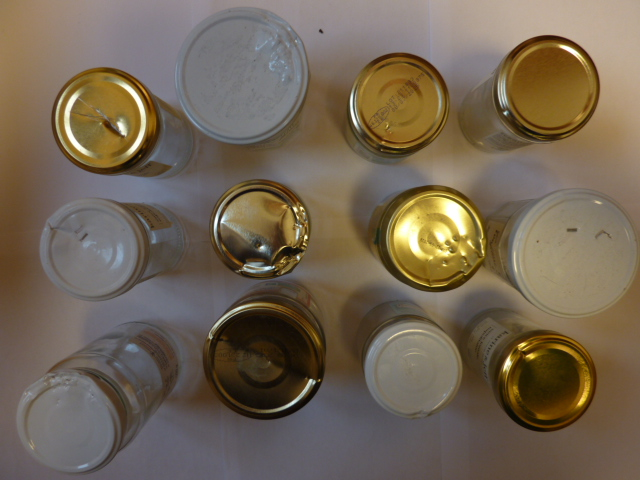damaged: (15, 373, 122, 474), (383, 188, 486, 291)
